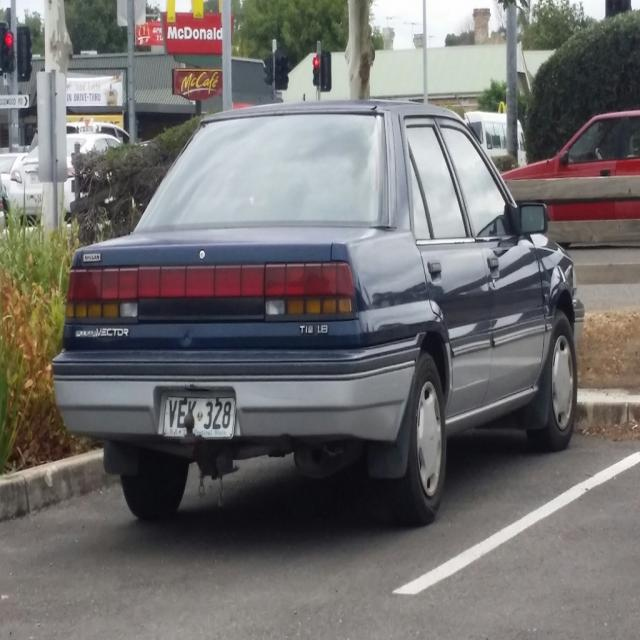other: (46, 93, 586, 525), (502, 117, 640, 238), (0, 123, 125, 225)
